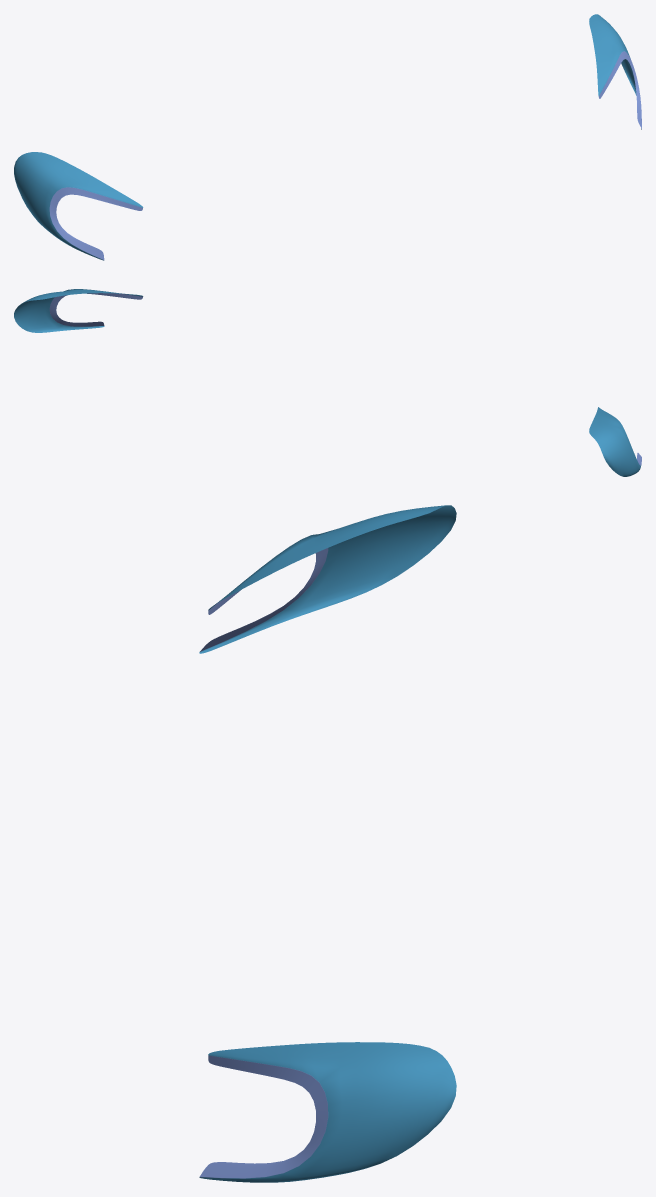
Rendered from HeadLights.fbx.
3 views of the same model, one above another, from view 1: azimuth 30°, elevation 25°; view 2: azimuth 150°, elevation 25°; view 3: azimuth 270°, elevation 25° (orthographic). The views are drawn at different scales.
Visible parts, largest first — view 1: headlight; view 2: headlight; view 3: headlight.
Part boxes in pixels (x1=…): headlight: x1=14, y1=14, x2=641, y2=260; headlight: x1=14, y1=289, x2=641, y2=476; headlight: x1=199, y1=505, x2=456, y2=1182.
Bounding box in the file's own units: 5938 × 644 × 1107.
